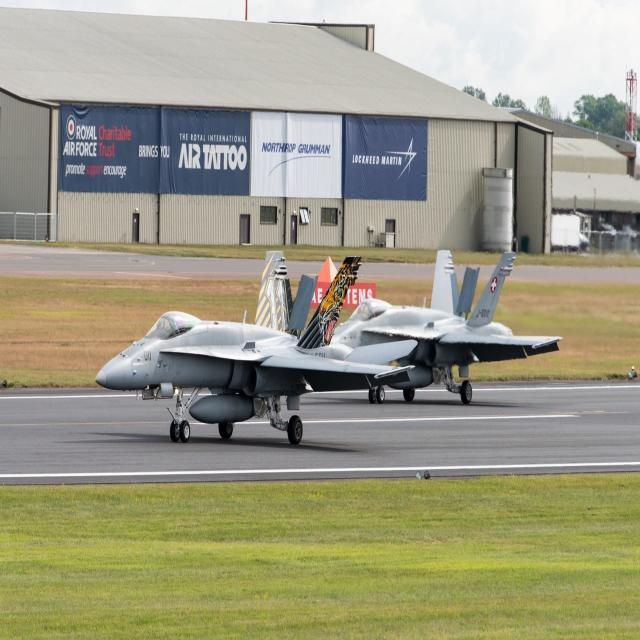MIL_Plane: (95, 251, 418, 442), (330, 249, 563, 404)
